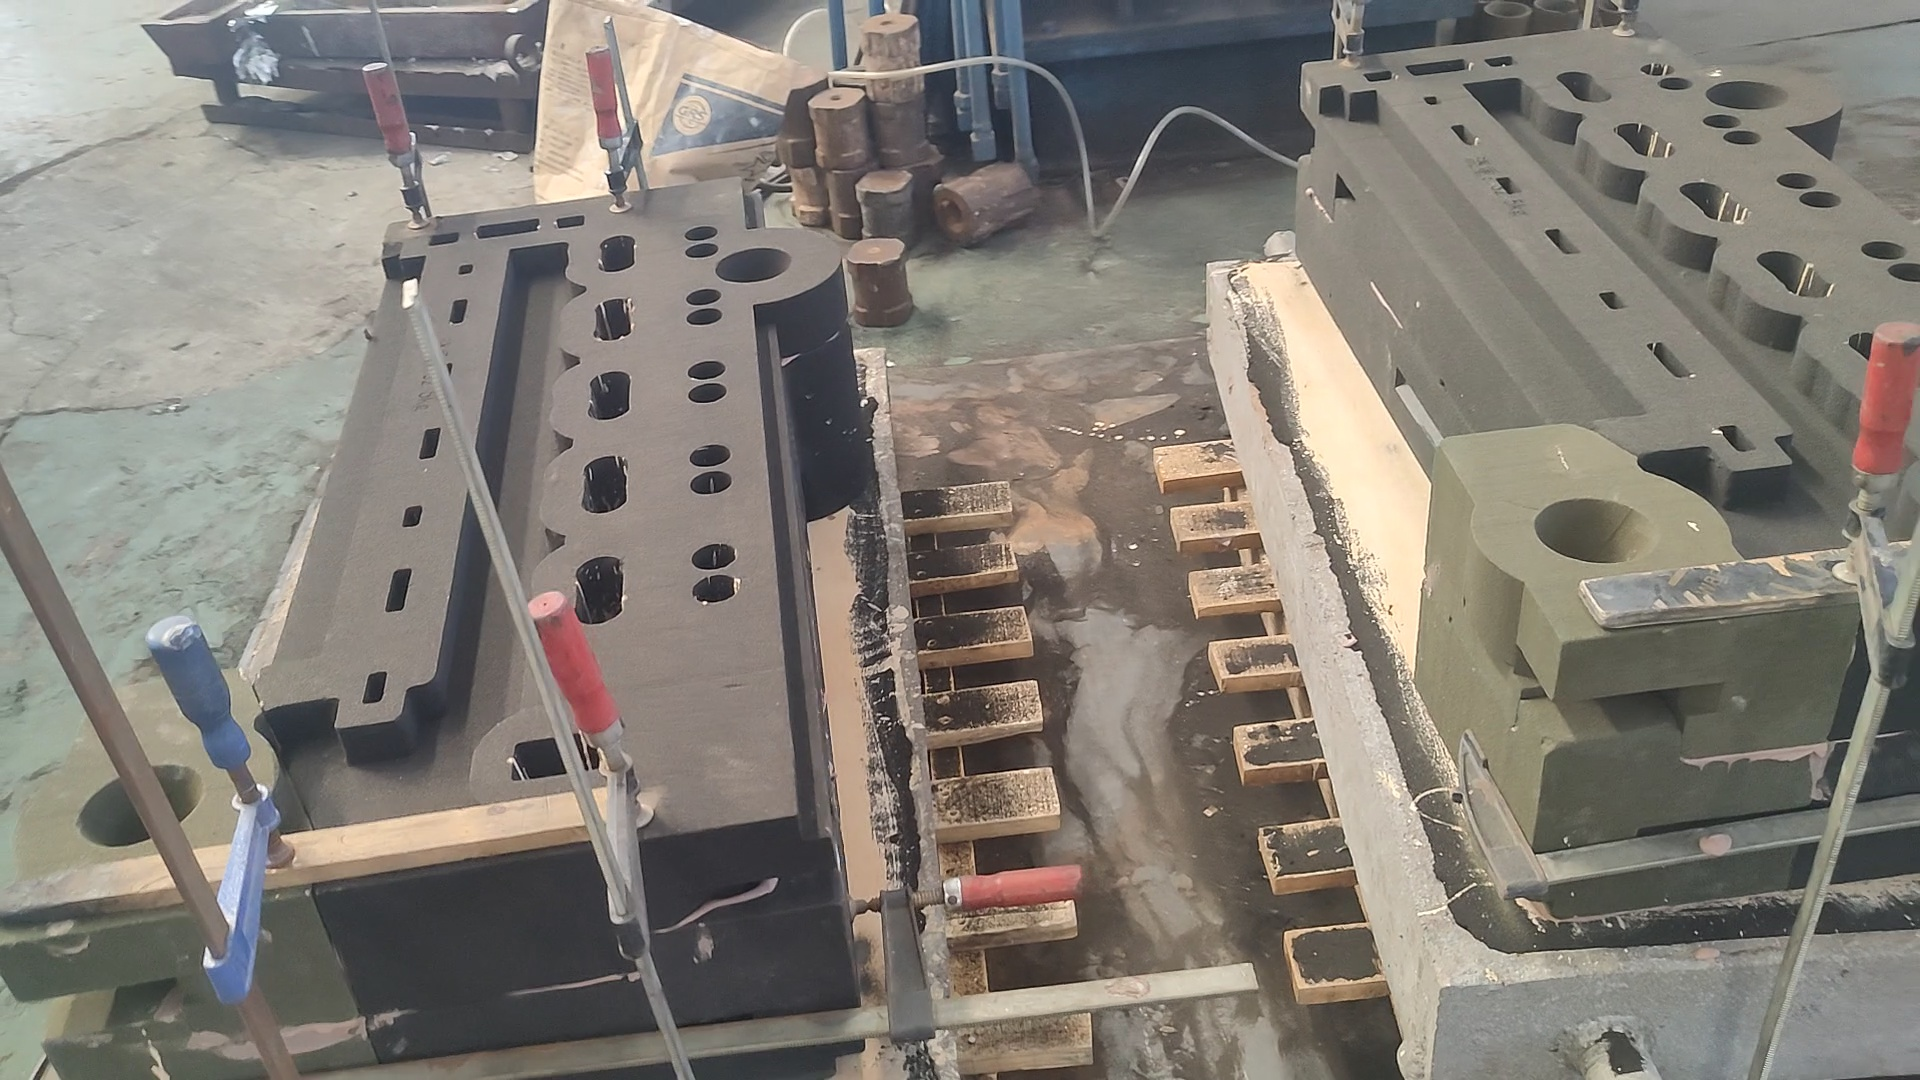pouring hole: (76, 764, 204, 847), (1535, 497, 1658, 564), (715, 247, 793, 284), (1705, 78, 1785, 109), (1480, 1, 1528, 18), (1534, 1, 1584, 15), (1594, 1, 1640, 13)
